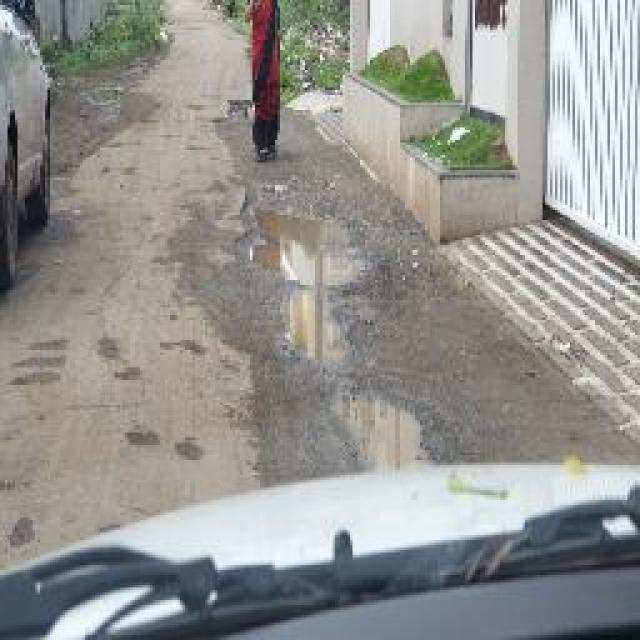waterlogging: (250, 189, 378, 289), (323, 396, 442, 466), (270, 293, 366, 375)
